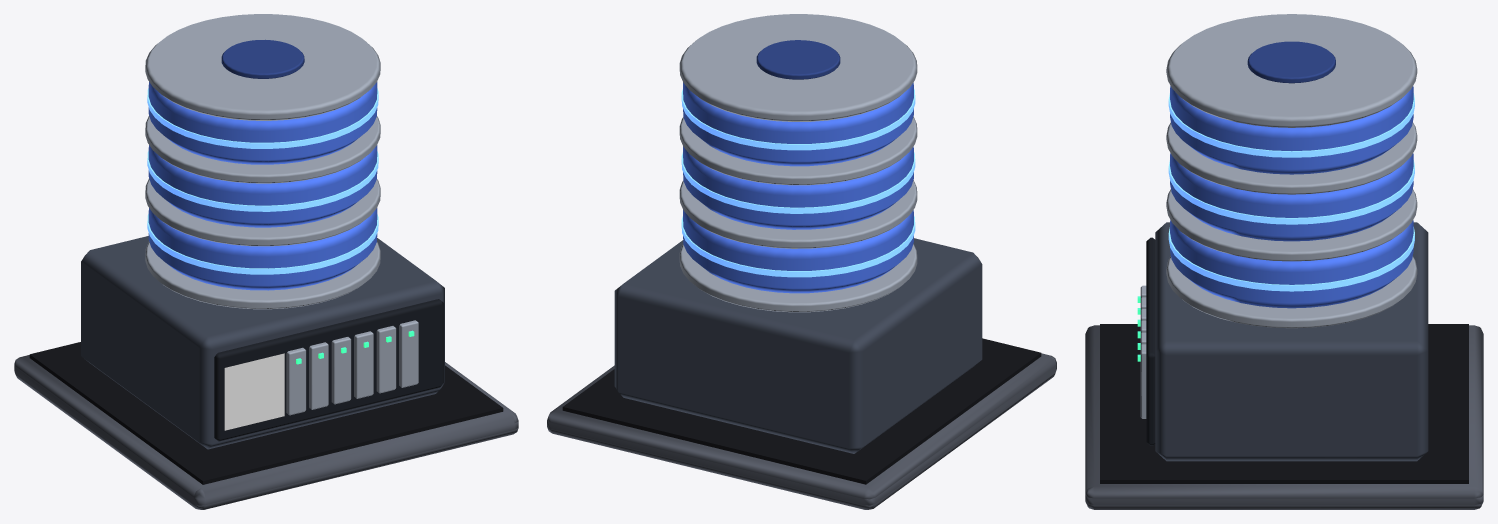
The model's file is rds.glb.
3 renders of one model, left to right at view 1: azimuth 30°, elevation 25°; view 2: azimuth 150°, elevation 25°; view 3: azimuth 270°, elevation 25°, orthographic. The views are drawn at different scales.
Visible parts, largest first — view 1: body.steel_light, body.steel, body.accent, body.rubber, body.concrete, body.bezel, body.accent_glow, body.badge, body.accent_dark; view 2: body.steel, body.steel_light, body.accent, body.rubber, body.concrete, body.accent_glow, body.accent_dark; view 3: body.steel, body.steel_light, body.accent, body.rubber, body.concrete, body.accent_glow, body.accent_dark, body.bezel.
Boxes of the visible parts, bbox=[...] form: body.steel_light: bbox=[145, 14, 418, 415]; body.steel: bbox=[81, 236, 444, 449]; body.accent: bbox=[148, 82, 377, 290]; body.rubber: bbox=[29, 342, 503, 484]; body.concrete: bbox=[14, 355, 518, 509]; body.bezel: bbox=[214, 299, 443, 441]; body.accent_glow: bbox=[147, 88, 378, 274]; body.badge: bbox=[224, 353, 284, 430]; body.accent_dark: bbox=[221, 39, 304, 78]; body.steel: bbox=[614, 238, 982, 453]; body.steel_light: bbox=[679, 14, 917, 312]; body.accent: bbox=[683, 82, 913, 293]; body.rubber: bbox=[562, 338, 1041, 484]; body.concrete: bbox=[547, 353, 1056, 509]; body.accent_glow: bbox=[681, 89, 915, 277]; body.accent_dark: bbox=[756, 40, 840, 79]; body.steel: bbox=[1155, 222, 1428, 461]; body.steel_light: bbox=[1140, 14, 1417, 418]; body.accent: bbox=[1170, 86, 1413, 308]; body.rubber: bbox=[1100, 324, 1468, 483]; body.concrete: bbox=[1085, 325, 1483, 509]; body.accent_glow: bbox=[1168, 93, 1414, 291]; body.accent_dark: bbox=[1247, 41, 1335, 83]; body.bezel: bbox=[1146, 237, 1155, 445].
Size of the model in its own units: 1.08 by 1.11 by 1.08.
